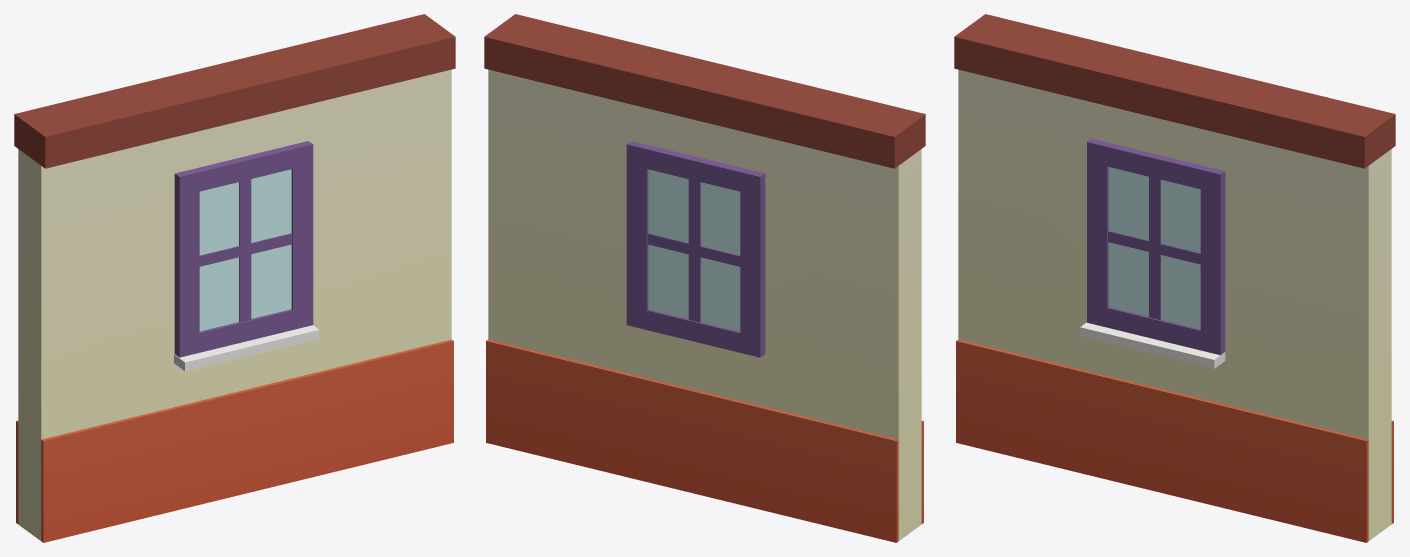
Rendered from Wall_1.fbx.
3 renders of one model, left to right at view 1: azimuth 30°, elevation 25°; view 2: azimuth 150°, elevation 25°; view 3: azimuth 330°, elevation 25°, orthographic.
Visible parts, largest first — view 1: Wall_1; view 2: Wall_1; view 3: Wall_1.
Boxes of the visible parts, x1,y1,x2,y2 form: Wall_1: (14, 14, 455, 542); Wall_1: (484, 14, 925, 542); Wall_1: (954, 14, 1395, 542).
Size of the model in its own units: 400 by 380 by 65.72.
